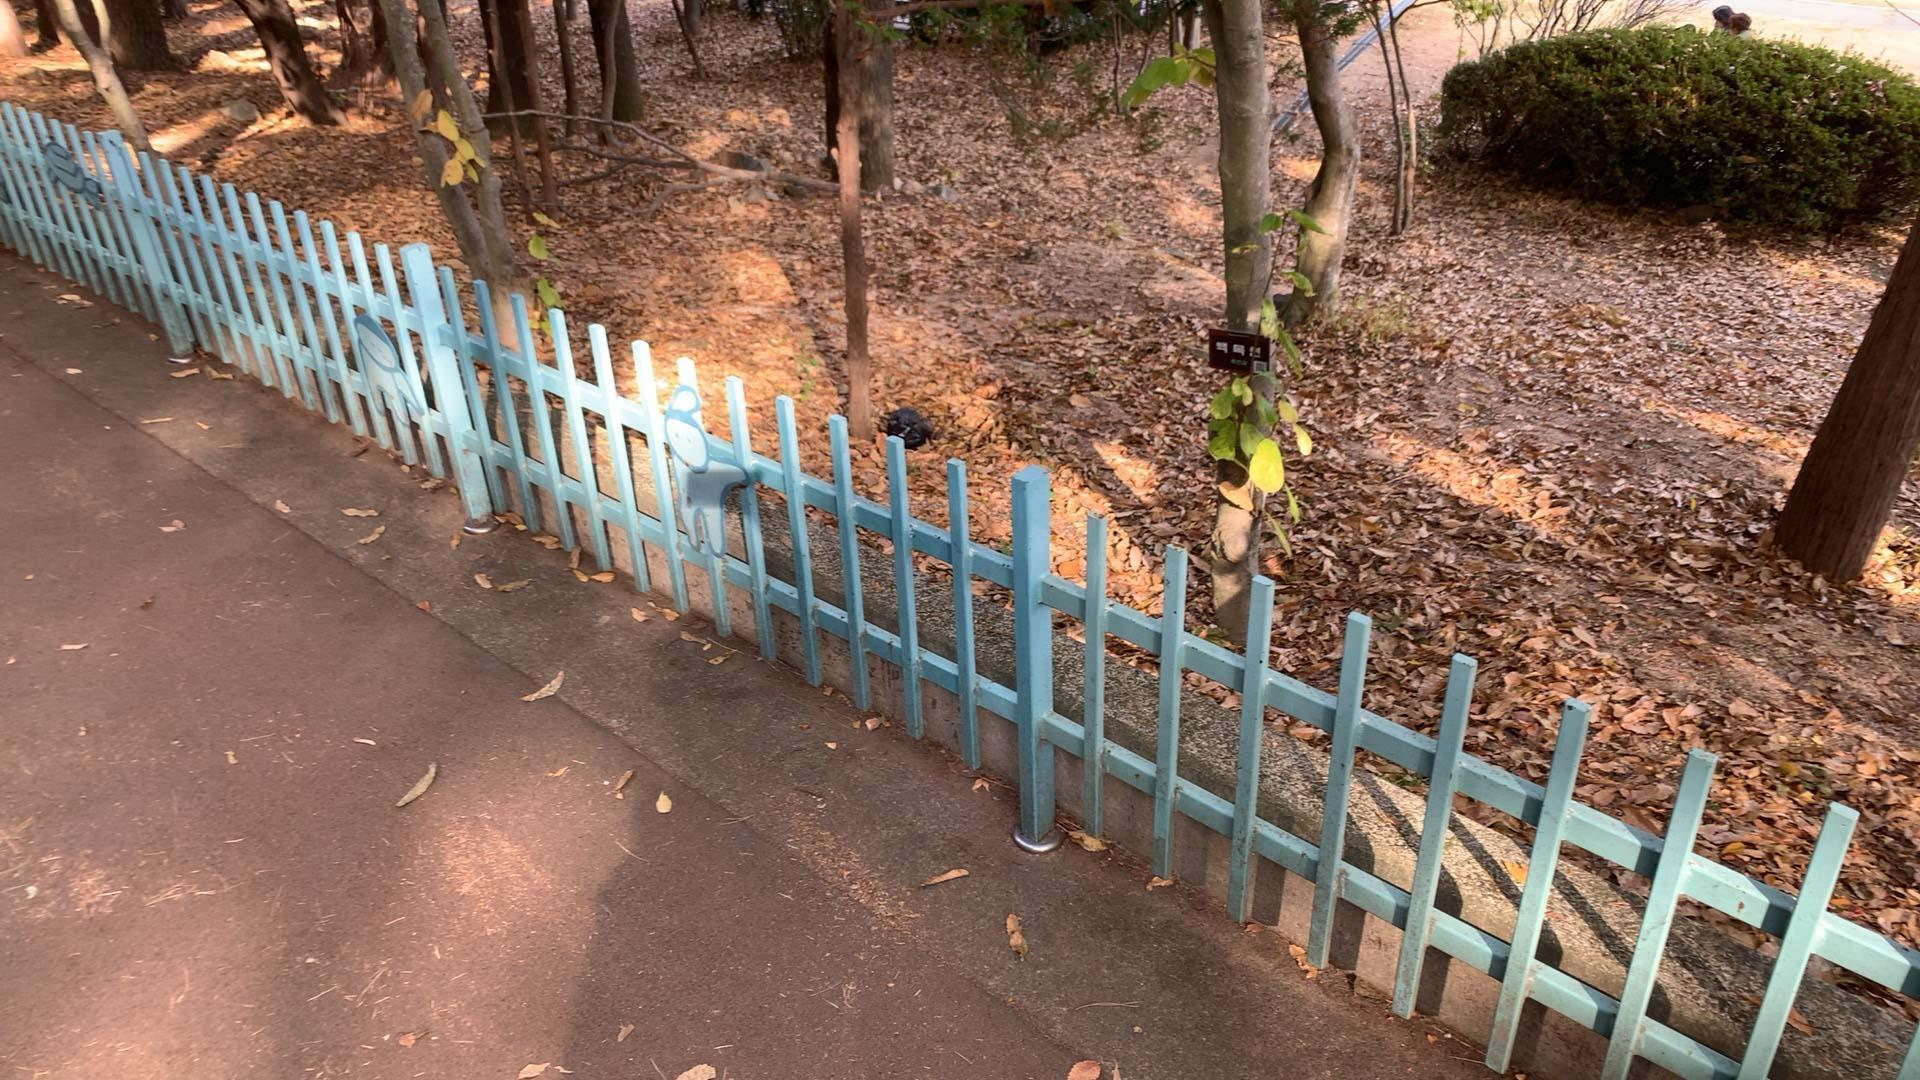black_bag: (876, 404, 939, 450)
